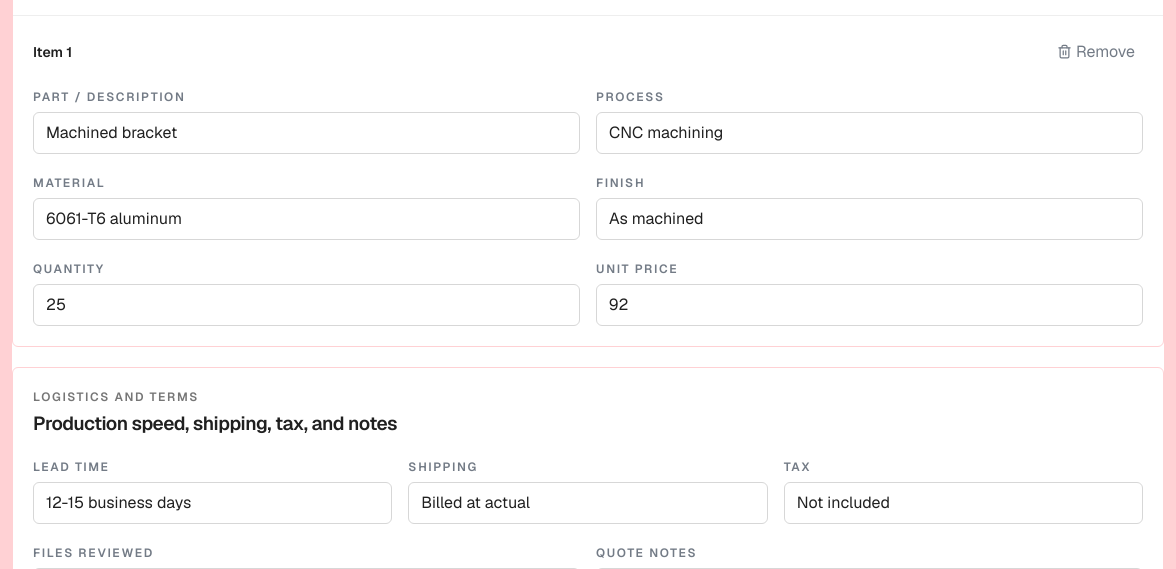
it: CustomerQuoteBuilder › renders editable quote inputs and generated customer preview
The image size is (1176, 569).
(page scrolled)
Replace the text in the number field labelled "Quantity" with "50" at coordinates (306, 304), box [33,284,580,326]
(page scrolled)
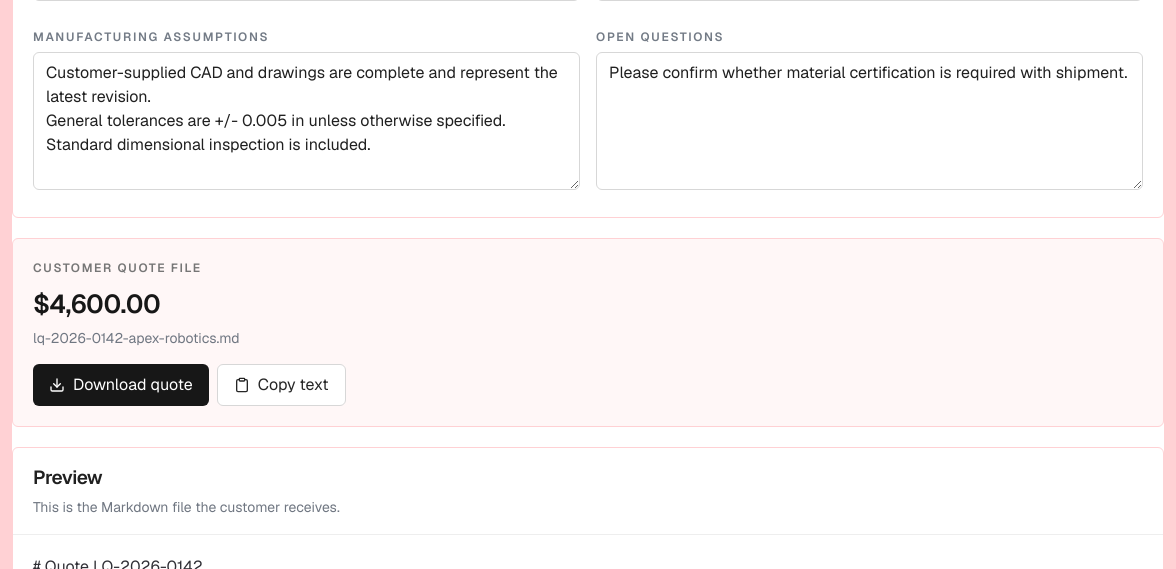
Expected: the form showing "50 | $92.00 | $4,600.00" is shown, [33,364,346,406]
Expected: the heading "$4,600.00" is shown, [33,287,160,321]
